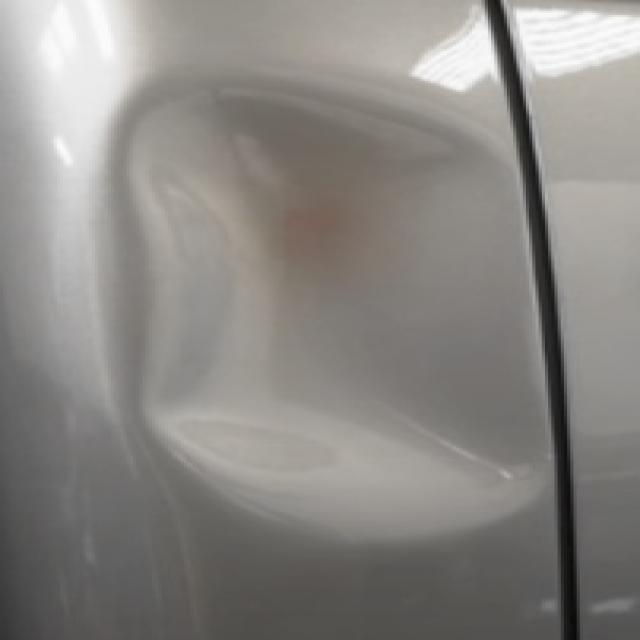dent: (91, 68, 550, 540), (33, 8, 121, 165)
